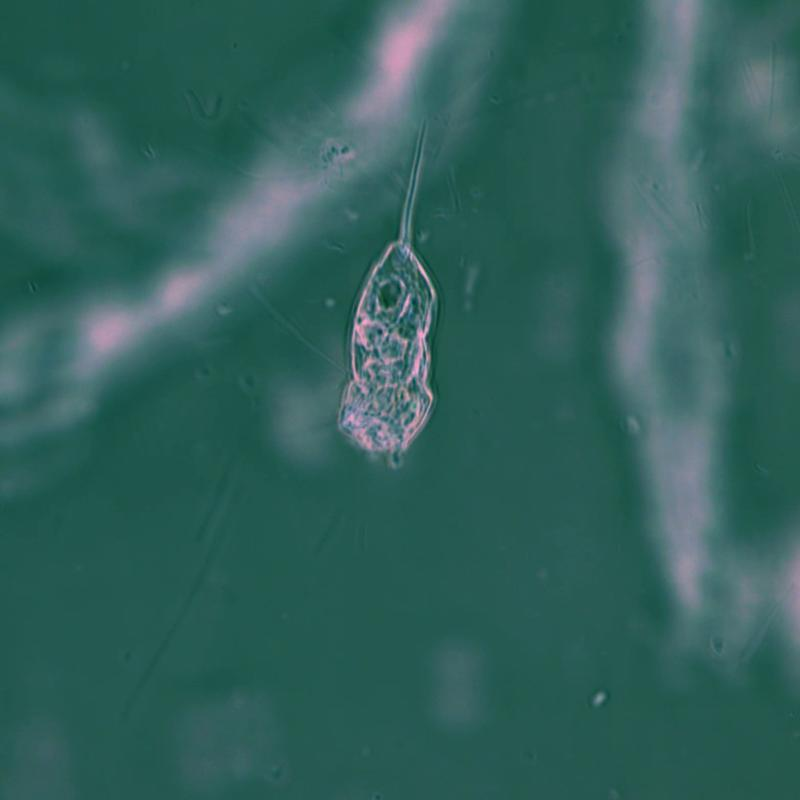depth:0: (334, 106, 459, 476)
